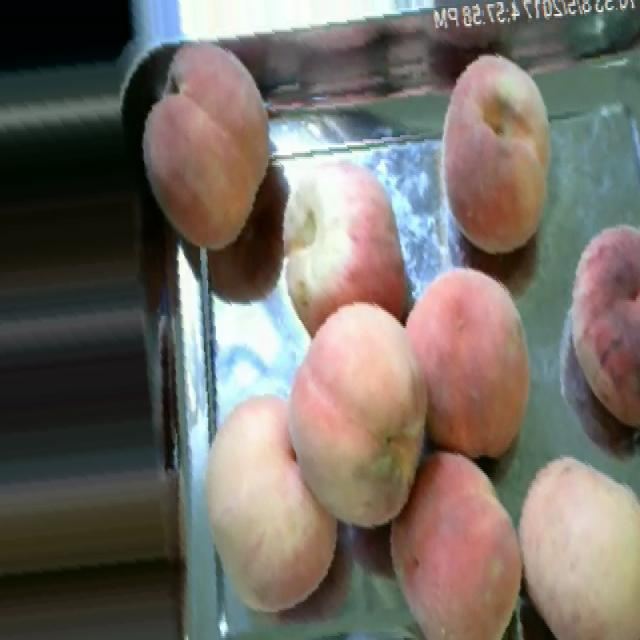Fruit: (272, 288, 441, 543), (193, 382, 352, 624), (132, 26, 291, 260), (424, 40, 567, 268), (403, 258, 545, 475), (375, 437, 524, 640), (514, 437, 640, 639), (556, 209, 640, 447)
